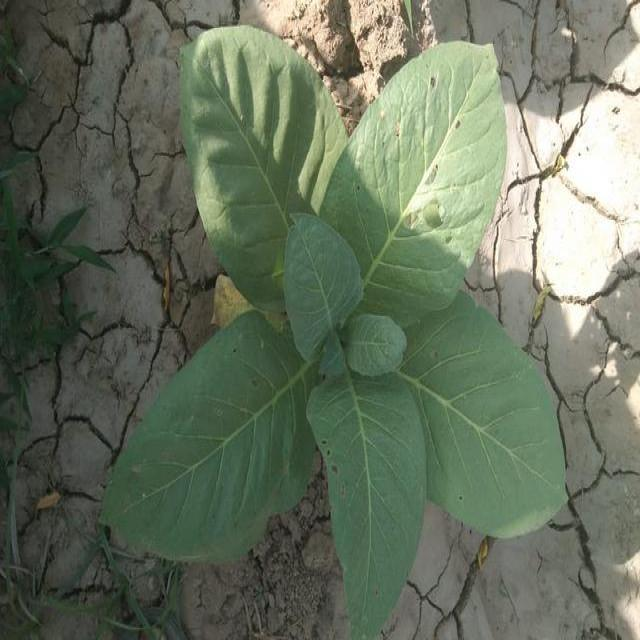crop: (112, 26, 566, 640)
